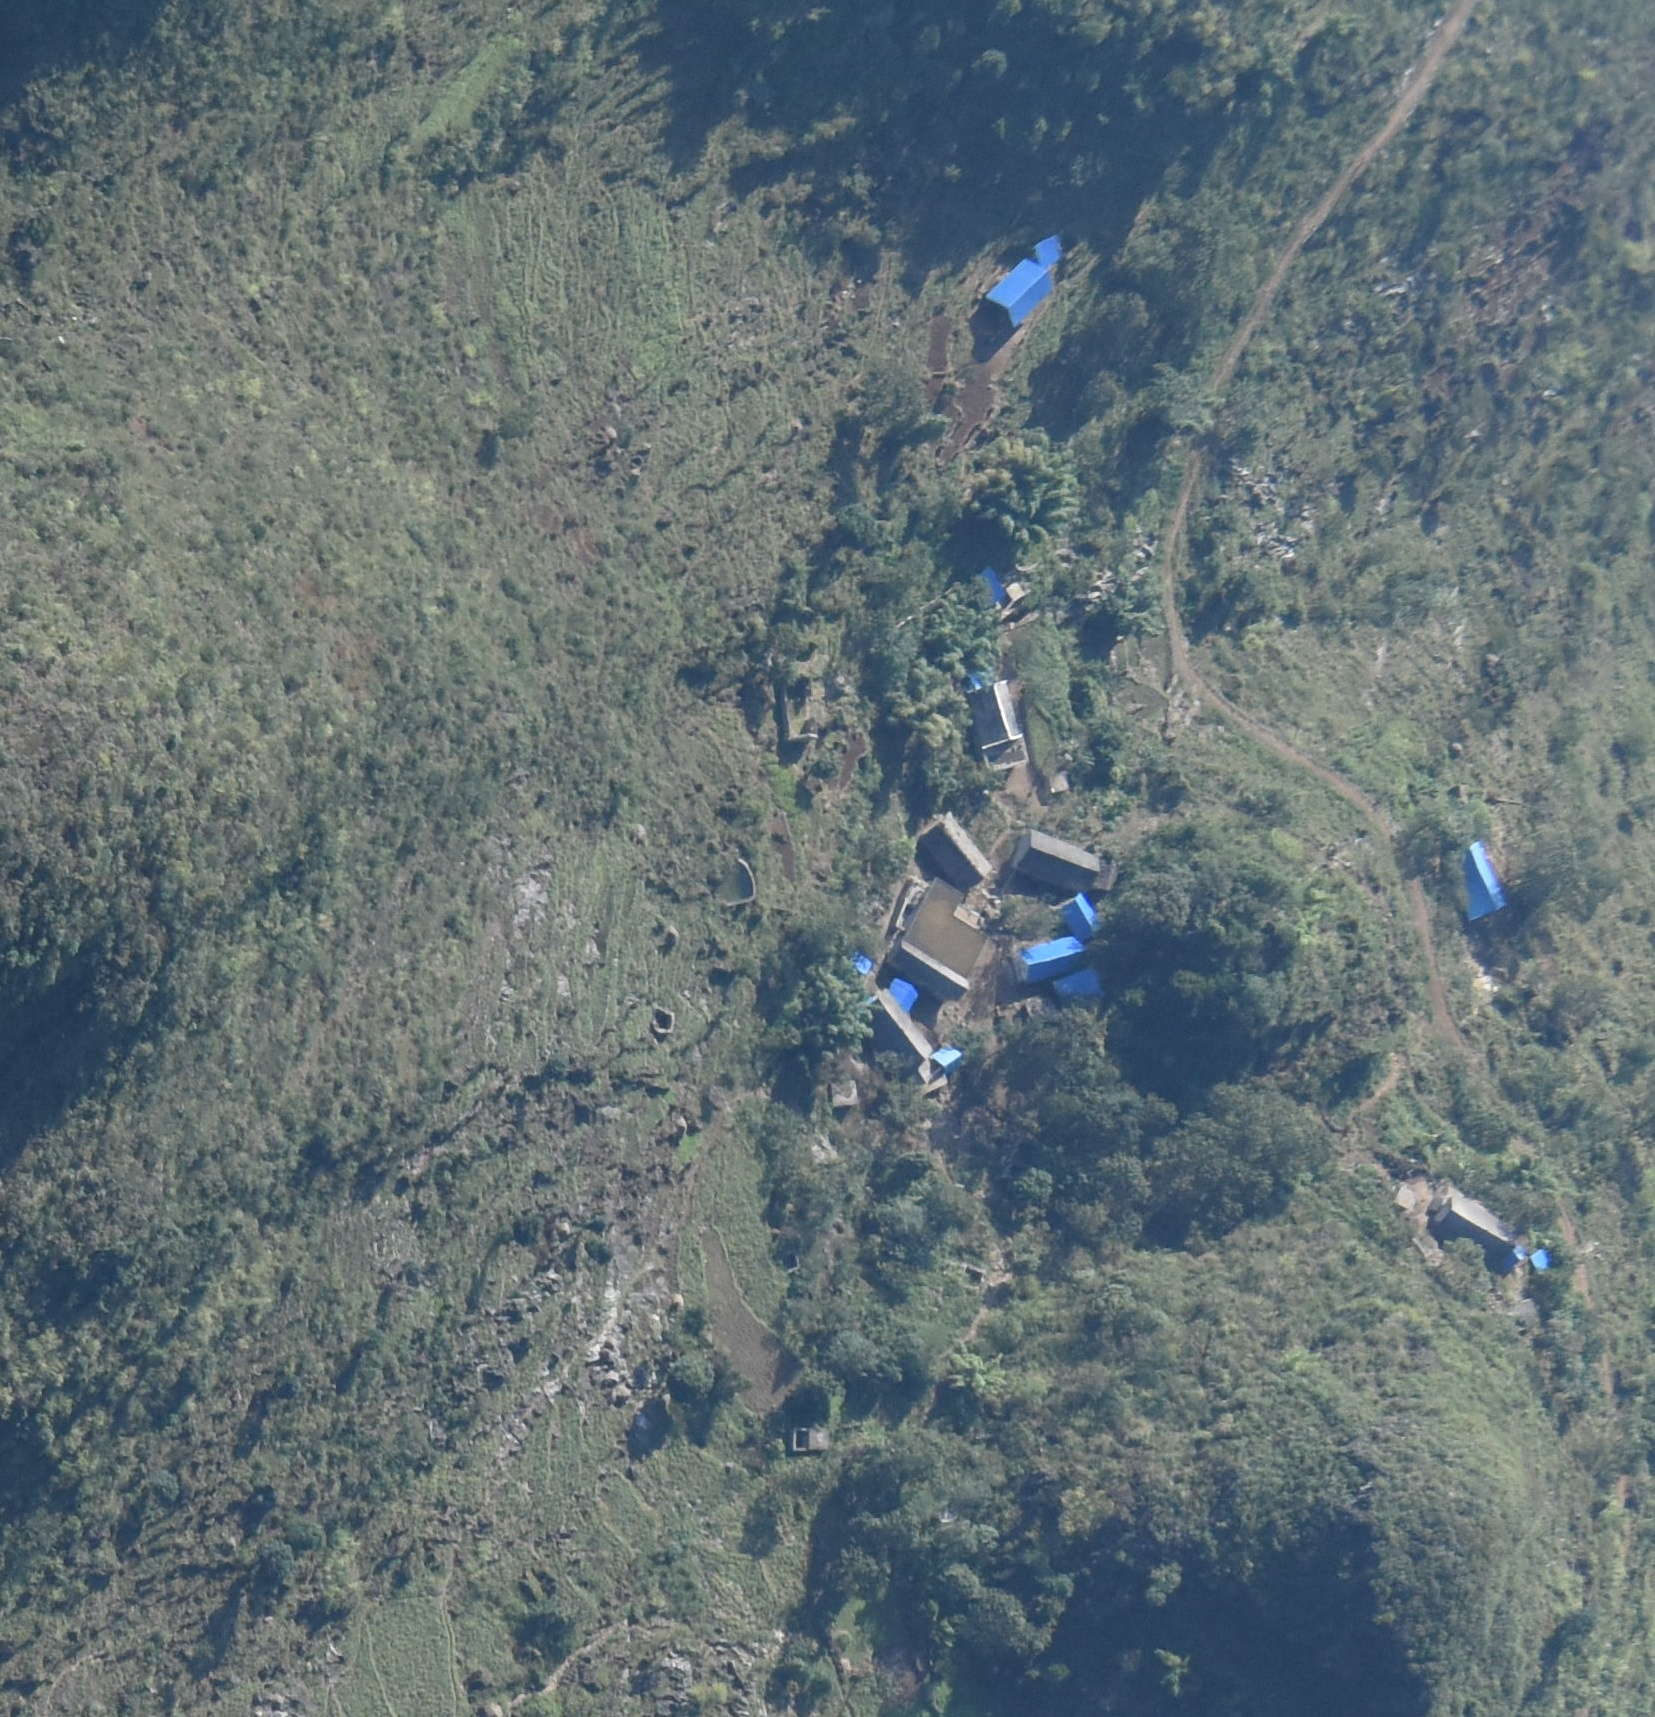building: (898, 878, 988, 992), (1010, 826, 1113, 892), (1433, 1187, 1512, 1262), (965, 679, 1028, 773), (913, 814, 988, 886), (870, 987, 927, 1067), (1396, 1187, 1417, 1213)
prefabricated-house: (988, 233, 1060, 330), (1448, 842, 1506, 918), (1016, 934, 1085, 980), (1060, 895, 1100, 938), (972, 567, 1010, 612), (1057, 969, 1100, 1006), (883, 978, 919, 1007), (932, 1042, 964, 1073), (1528, 1249, 1552, 1272)
